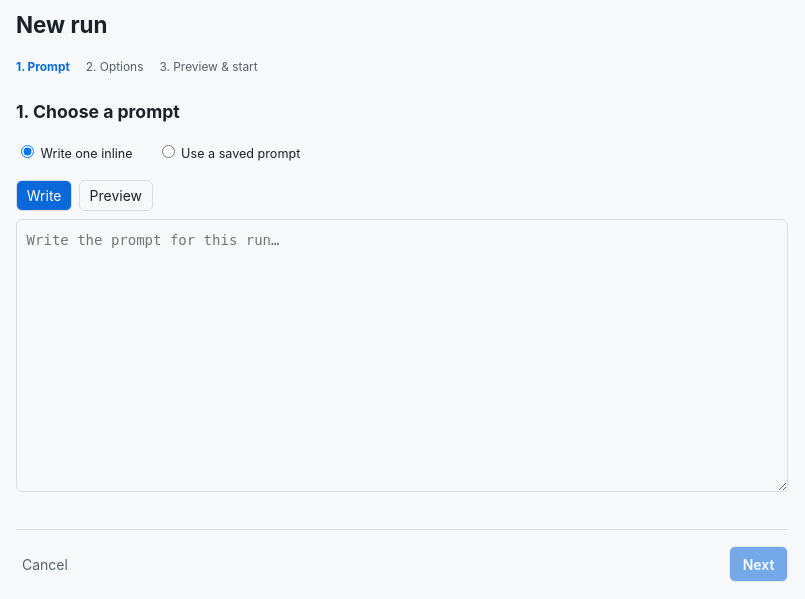
Test: NewRunWizard › defaults to write-inline mode and shows the textarea, not the saved list
expect the button with test id "wizard-next" is disabled: met, box [729, 546, 788, 582]
Type "do the thing" into the text box named "inline-body" at (402, 356), box [16, 219, 788, 492]
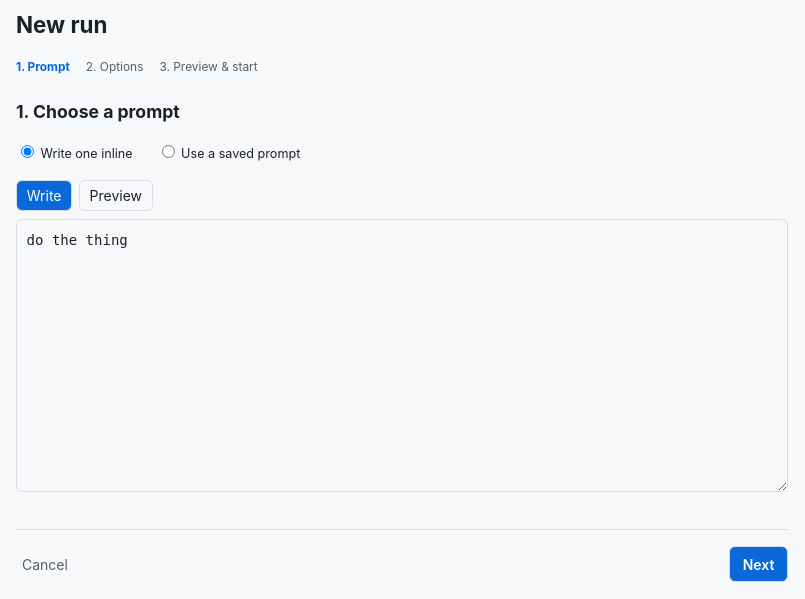
expect the button with test id "wizard-next" is enabled: met, box [729, 546, 788, 582]
